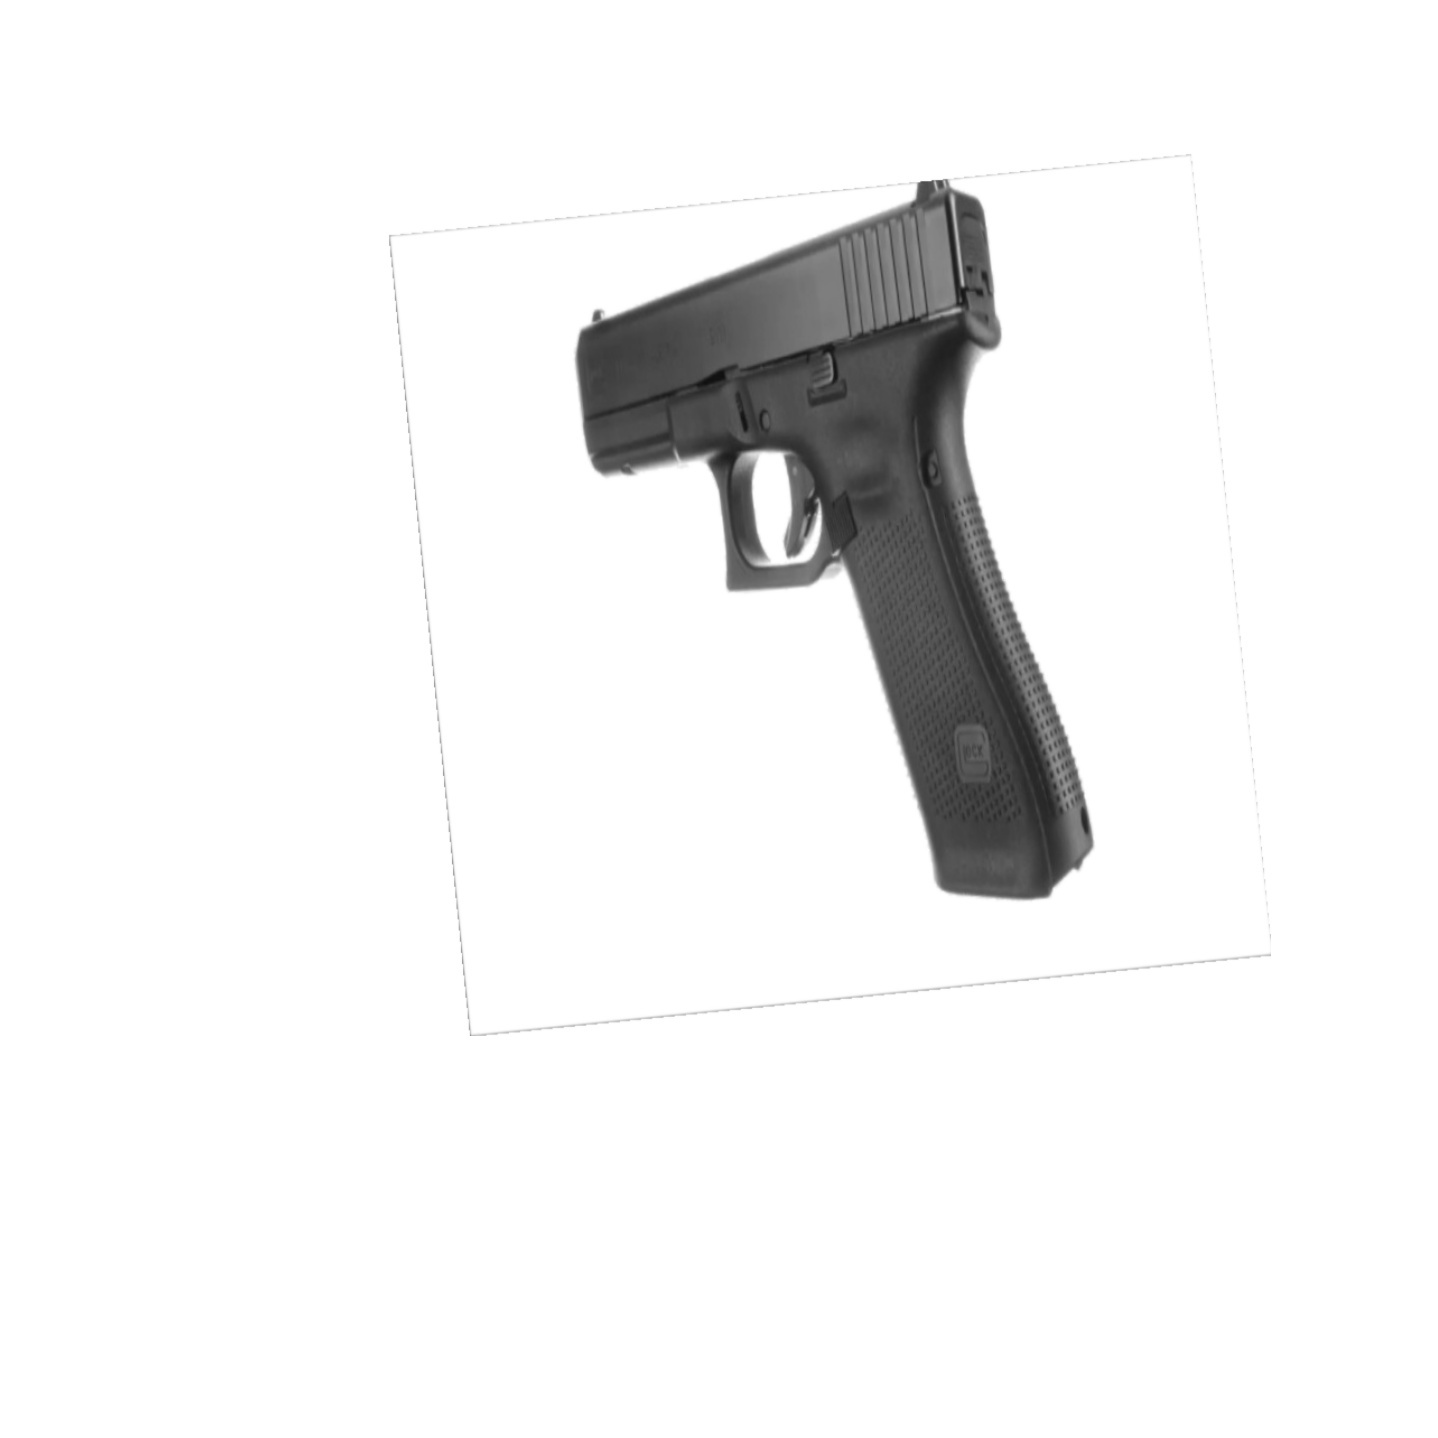gun: (544, 173, 1126, 903)
